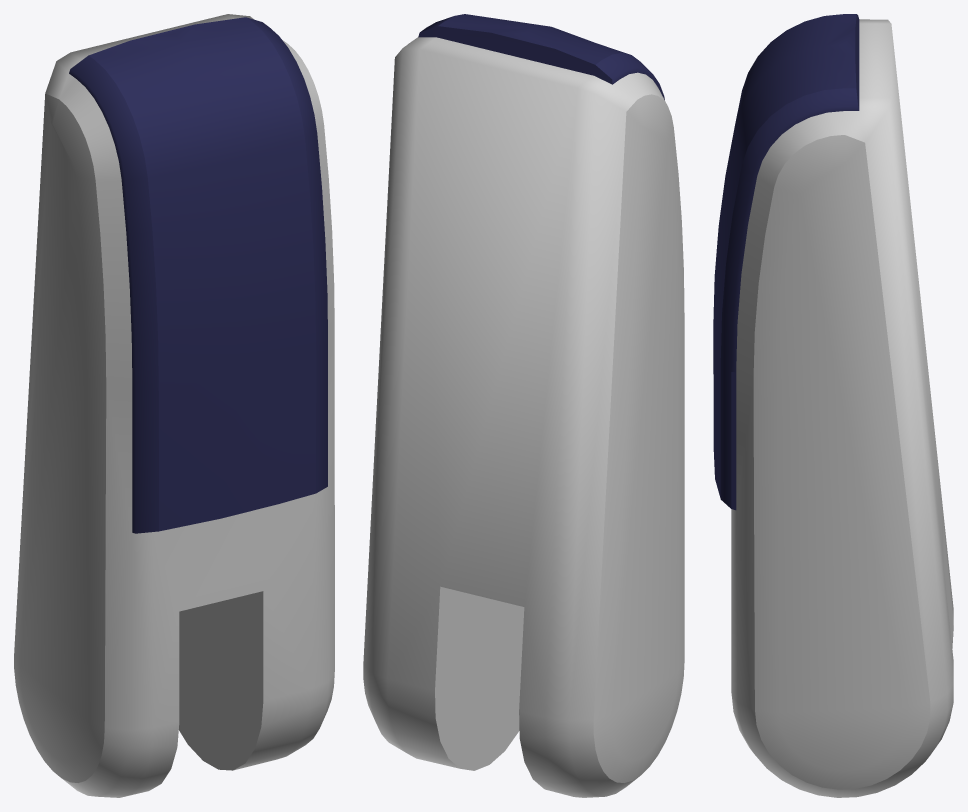
Rendered from thirdFingerLink.obj.
The picture shows the model from 3 angles, left to right: view 1: azimuth 30°, elevation 25°; view 2: azimuth 150°, elevation 25°; view 3: azimuth 270°, elevation 25°; orthographic projection. The views are drawn at different scales.
Parts seen in each view (by area): view 1: thirdFingerLink; view 2: thirdFingerLink; view 3: thirdFingerLink.
Boxes of the visible parts, <box> form: thirdFingerLink: <box>14,14,334,797</box>; thirdFingerLink: <box>363,14,684,797</box>; thirdFingerLink: <box>713,14,953,797</box>.
Size of the model in its own units: 0.023 by 0.067 by 0.0205.
Materials: 1 (1 with a texture image).
